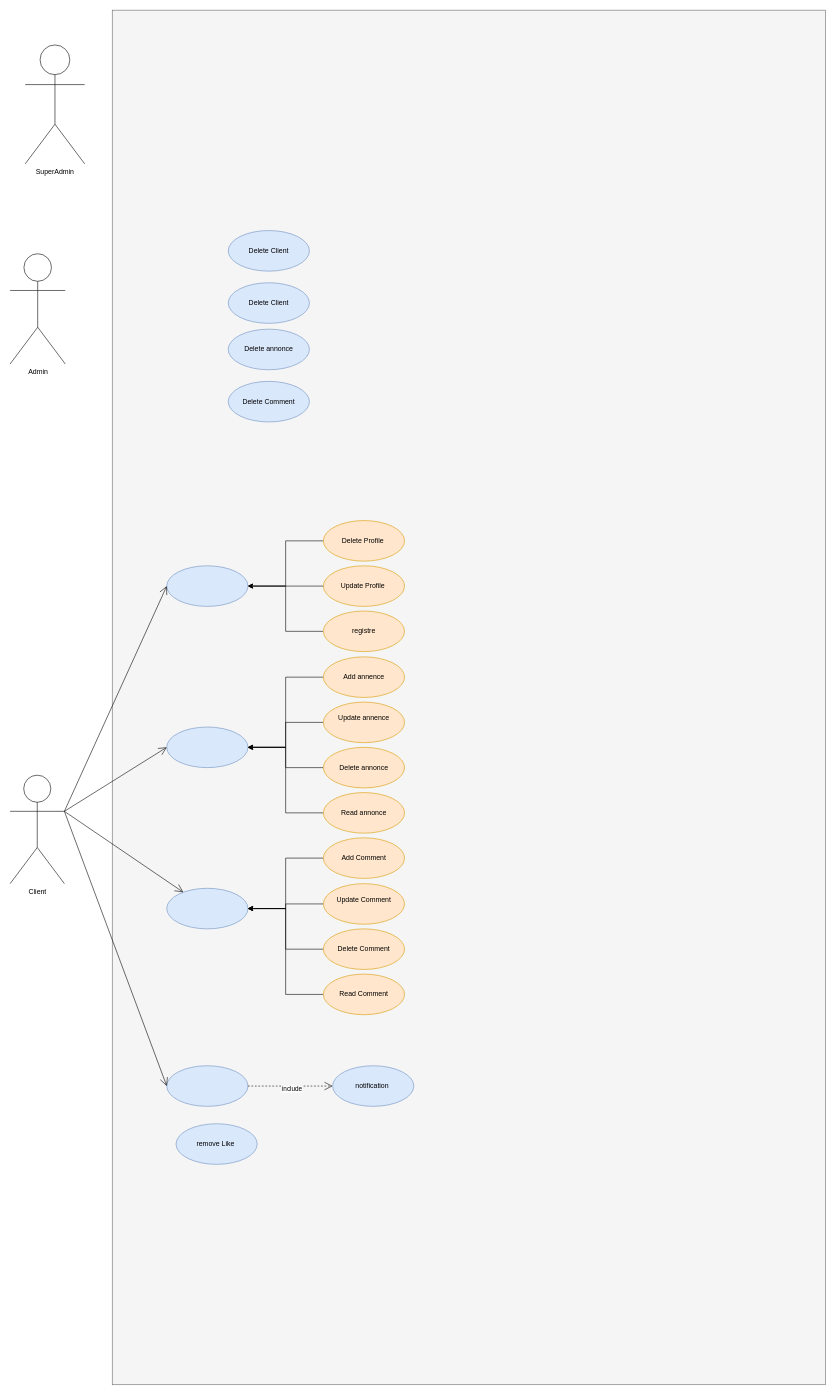
This 836x1395 diagram has some shape labels left out. The centre of each missing label's shape, as x and y in pixels:
"Like annence" belongs at (207,1085).
"Manage annence" belongs at (207,747).
"Manage Comment" belongs at (207,908).
"Manage Profile" belongs at (207,585).
